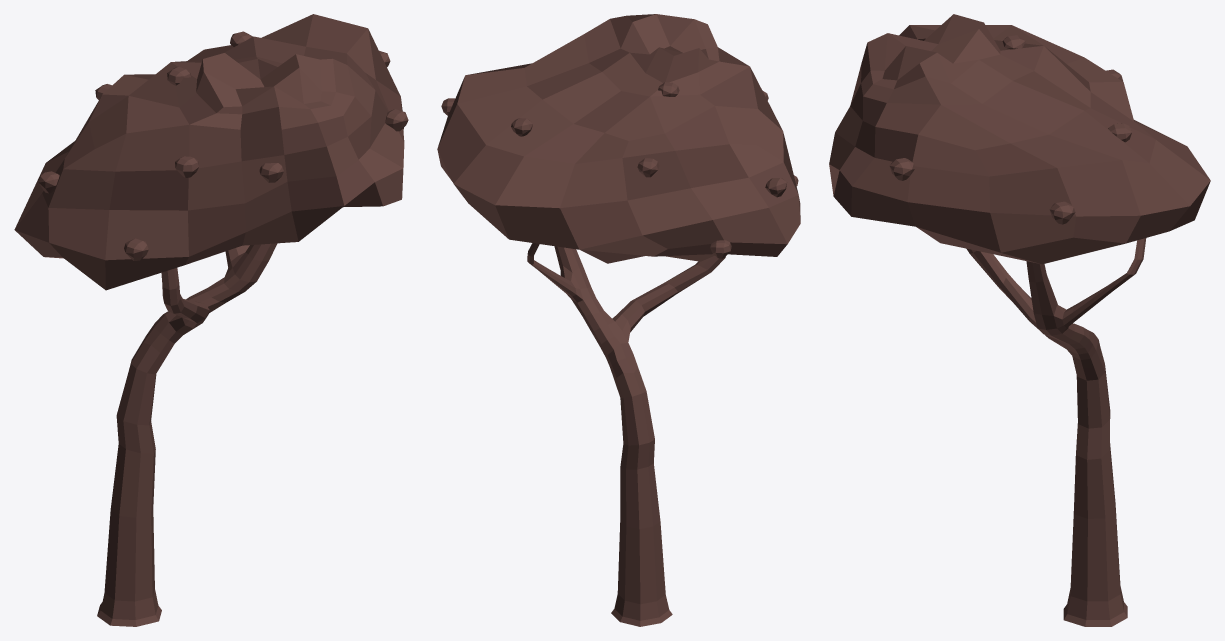
The model's file is Orange_4.glb.
The picture shows the model from 3 angles, left to right: view 1: azimuth 30°, elevation 25°; view 2: azimuth 150°, elevation 25°; view 3: azimuth 270°, elevation 25°; orthographic projection. The views are drawn at different scales.
Visible parts, largest first — view 1: Orange_4_Cube.062; view 2: Orange_4_Cube.062; view 3: Orange_4_Cube.062.
Boxes of the visible parts, x1,y1,x2,y2 form: Orange_4_Cube.062: (14,14,408,626); Orange_4_Cube.062: (437,14,800,626); Orange_4_Cube.062: (829,14,1210,626).
Bounding box in the file's own units: 1.86 × 2.76 × 1.58.
